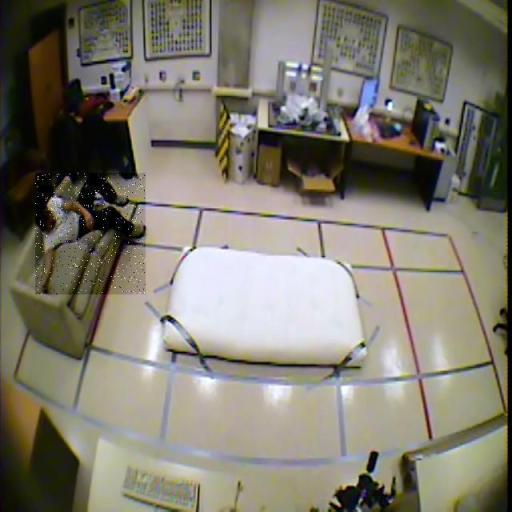Fall: (35, 173, 146, 294)
